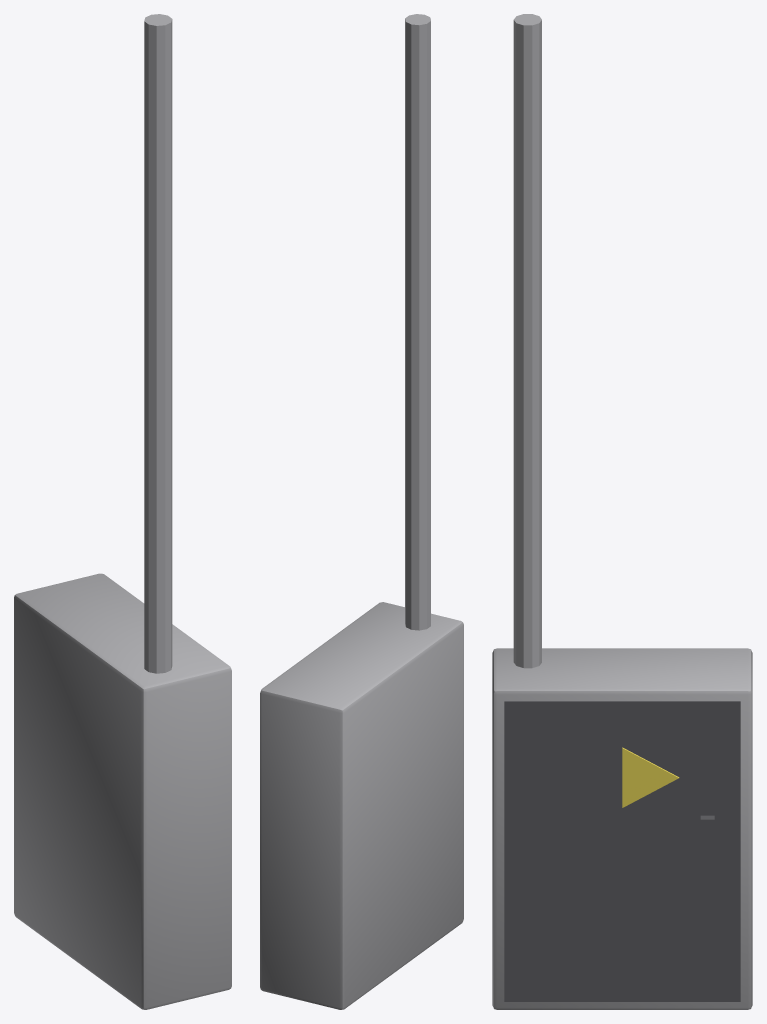
Rendered from SM_ElectricBox.fbx.
3 views of the same model, side by side, from view 1: azimuth 30°, elevation 25°; view 2: azimuth 150°, elevation 25°; view 3: azimuth 270°, elevation 25° (orthographic). The views are drawn at different scales.
Parts seen in each view (by area): view 1: SM_ElectricBox; view 2: SM_ElectricBox; view 3: SM_ElectricBox.
Boxes of the visible parts, x1=… form: SM_ElectricBox: x1=14, y1=14, x2=231, y2=1009; SM_ElectricBox: x1=260, y1=14, x2=463, y2=1009; SM_ElectricBox: x1=492, y1=14, x2=752, y2=1009.
Size of the model in its own units: 24.5 by 225 by 55.
